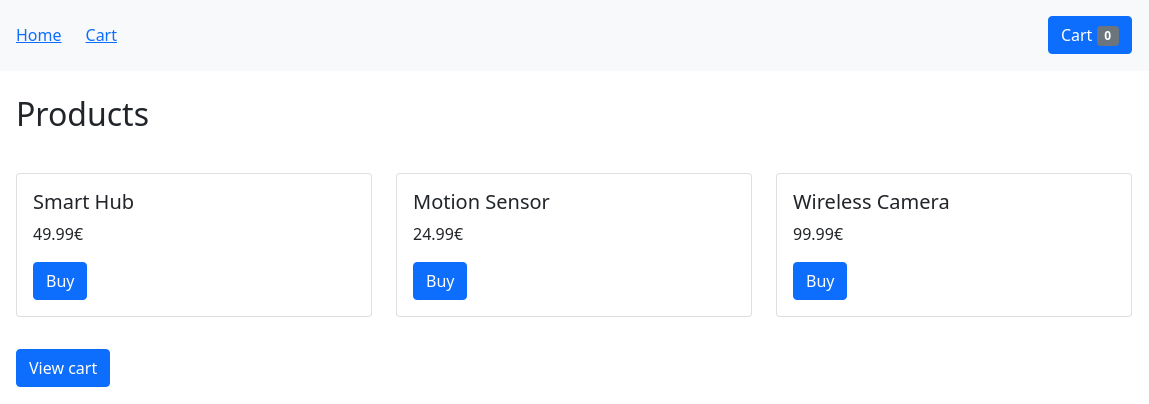
Test: Navigation total badge updates on product buy click
Expected: the text "0" is shown, [1096,26,1119,46]
# click first buy button
Click the button "Buy" below "49.99" at coordinates (60, 281), box [33,262,88,300]
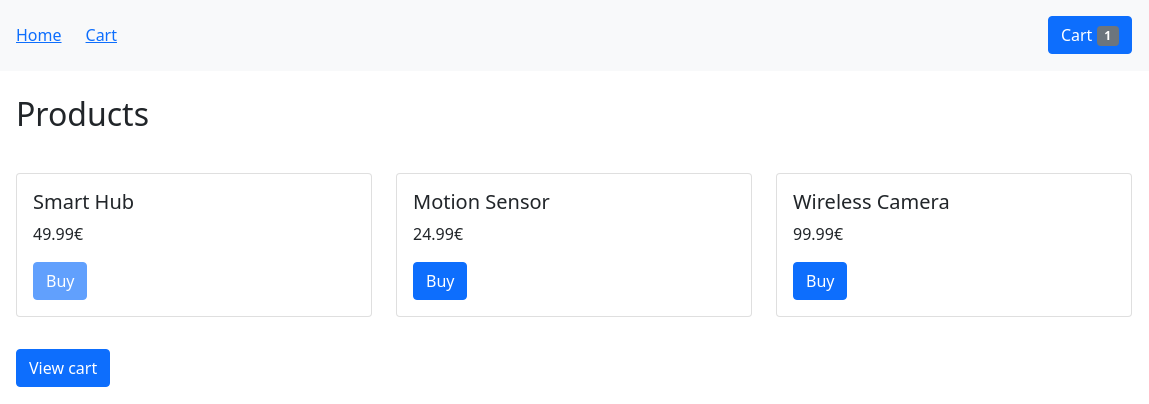
Now the button "Buy" below "49.99" is disabled, box [33,262,88,300]
Now the text "1" is shown, box [1096,26,1119,46]
